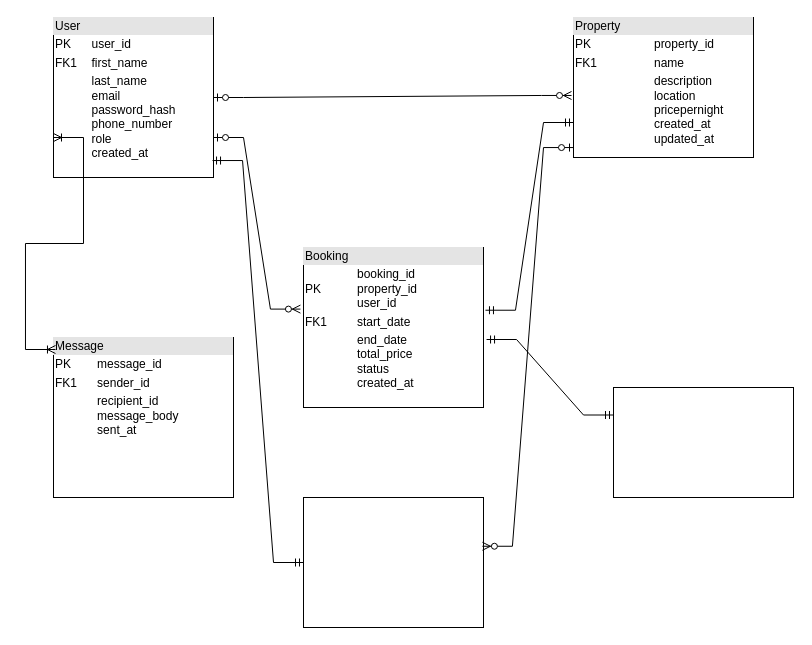
The diagram is 812 pixels wide and 645 high, and some of its shapes have lost their labels. The shapes that lost their labels are listed below. From the top down, each one's centre as x and y in pixels, then its label:
At (x=703, y=442): "Payment PK payment_id booking_id FK1 amount payment_date payment_method".
At (x=393, y=562): "Review PK review_id property_id user_id FK1 rating comment created_at".
